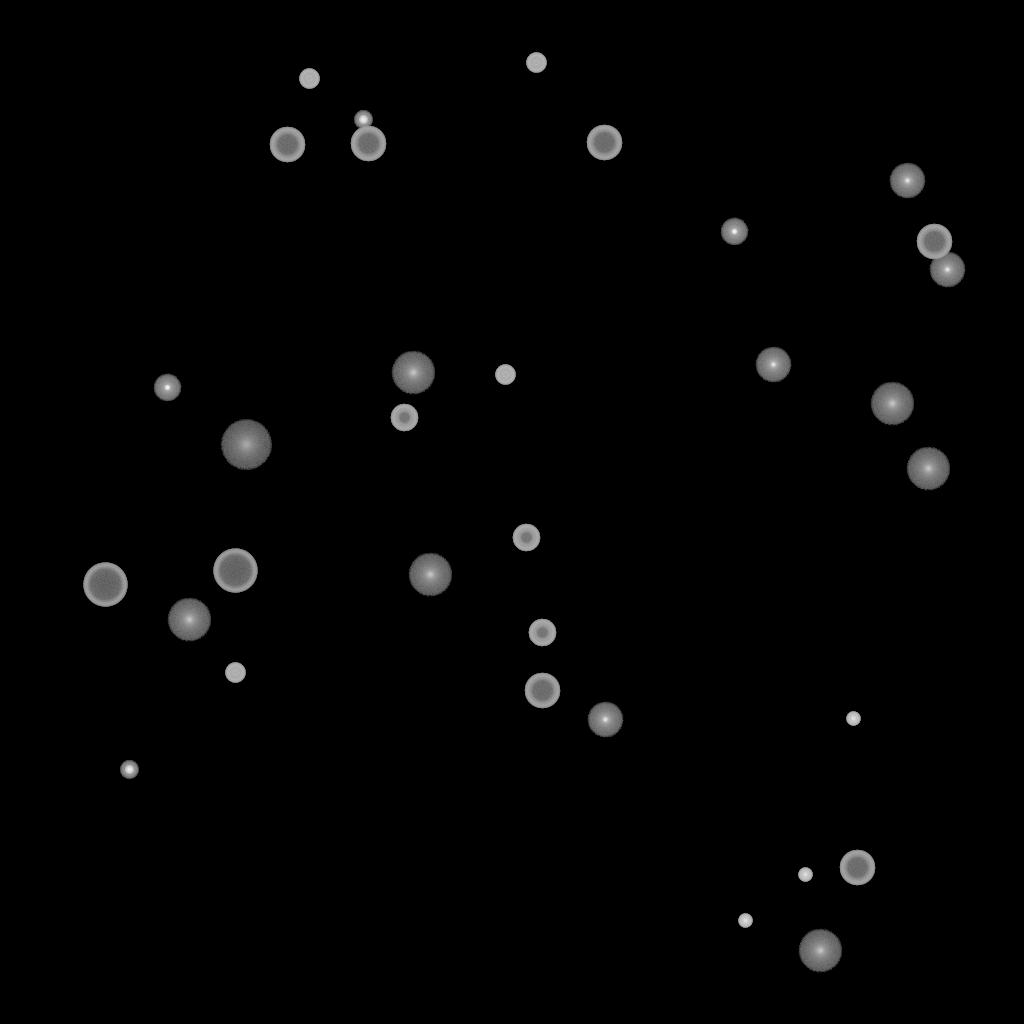depth:-10: (153, 374, 181, 402), (720, 218, 748, 246)
depth:-20: (120, 761, 138, 779), (354, 111, 372, 129)
depth:-30: (738, 914, 752, 928), (846, 712, 860, 726), (798, 868, 812, 882)
depth:-40: (299, 69, 319, 89), (225, 663, 245, 683), (526, 53, 546, 73), (495, 365, 515, 385)
depth:-50: (390, 404, 418, 432), (528, 619, 556, 647), (512, 524, 540, 552)
depth:-60: (350, 126, 386, 162), (586, 125, 622, 161), (269, 127, 305, 163), (916, 224, 952, 260), (524, 673, 560, 709), (839, 850, 875, 886)
depth:-70: (83, 563, 127, 607), (213, 549, 257, 593)
depth:0: (587, 702, 623, 738), (929, 252, 965, 288), (889, 163, 925, 199), (755, 347, 791, 383)
depth:10: (167, 598, 211, 642), (391, 351, 435, 395), (798, 929, 842, 973), (870, 382, 914, 426), (408, 553, 452, 597), (906, 447, 950, 491)
depth:20: (220, 420, 272, 470)
